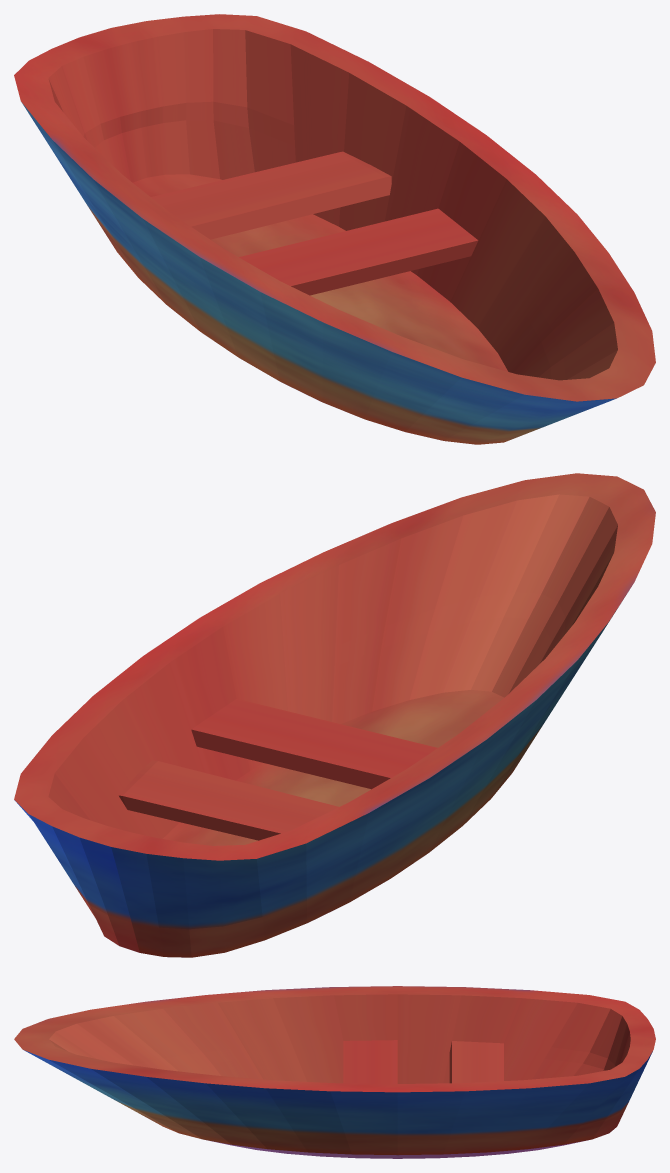
Rendered from Ship(Simple).fbx.
The picture shows the model from 3 angles, top to bottom: view 1: azimuth 30°, elevation 25°; view 2: azimuth 150°, elevation 25°; view 3: azimuth 270°, elevation 25°; orthographic projection. The views are drawn at different scales.
Parts seen in each view (by area): view 1: Cylinder; view 2: Cylinder; view 3: Cylinder.
Boxes of the visible parts, x1=… form: Cylinder: x1=14, y1=14, x2=655, y2=444; Cylinder: x1=14, y1=473, x2=655, y2=957; Cylinder: x1=14, y1=986, x2=655, y2=1158.
Bounding box in the file's own units: 134 × 56.45 × 343.
Materials: 1 (1 with a texture image).
